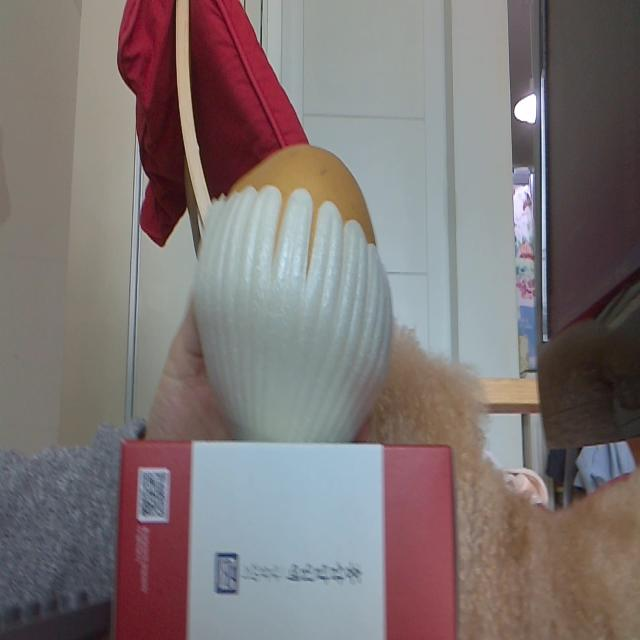pear: (192, 143, 392, 442)
